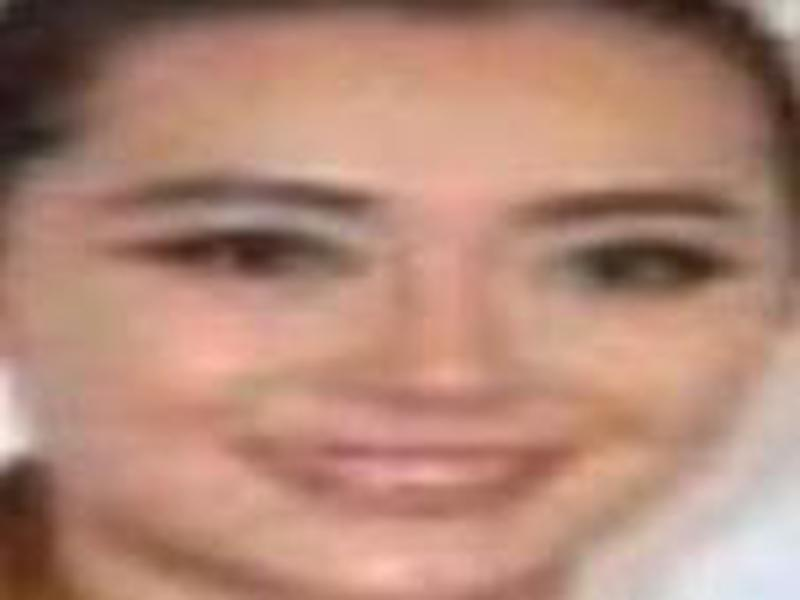without_mask: (6, 55, 791, 600)
